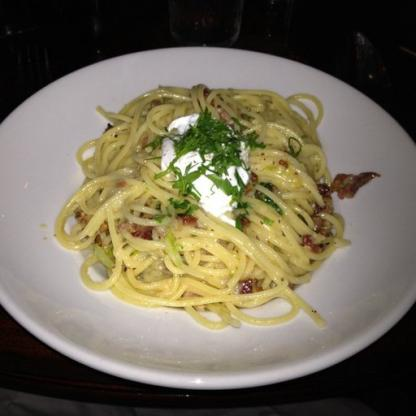pasta: (63, 90, 343, 323)
